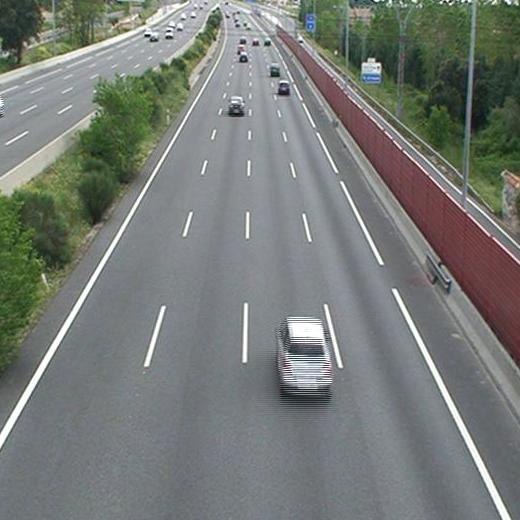car: (279, 317, 332, 392), (228, 98, 243, 114), (279, 81, 290, 93), (269, 64, 279, 74), (238, 53, 249, 61)
